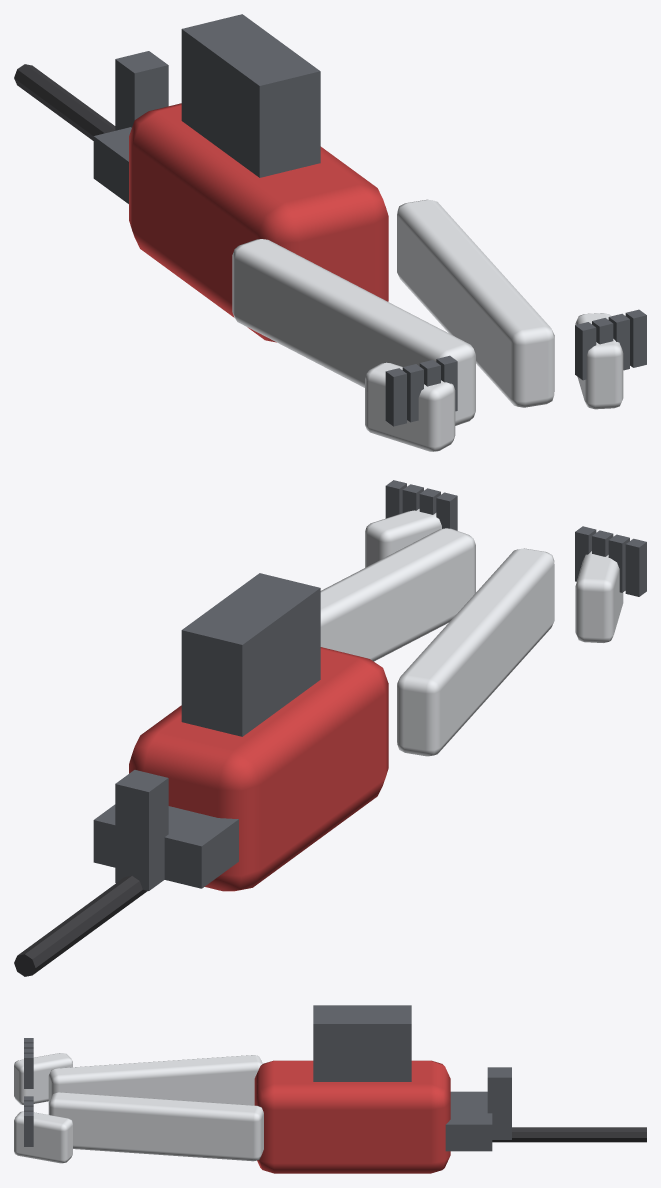
Rendered from fire-and-emergency-services-hydraulic-spreading-tool-1ed4c3f9__29920.glb.
3 renders of one model, top to bottom at view 1: azimuth 30°, elevation 25°; view 2: azimuth 150°, elevation 25°; view 3: azimuth 270°, elevation 25°, orthographic. The views are drawn at different scales.
Visible parts, largest first — view 1: hydraulic-spreading-tool; view 2: hydraulic-spreading-tool; view 3: hydraulic-spreading-tool.
Boxes of the visible parts, x1,y1,x2,y2 form: hydraulic-spreading-tool: [14, 14, 646, 451]; hydraulic-spreading-tool: [14, 480, 646, 976]; hydraulic-spreading-tool: [14, 1005, 646, 1173].
Size of the model in its own units: 0.375 by 0.33 by 1.29.
